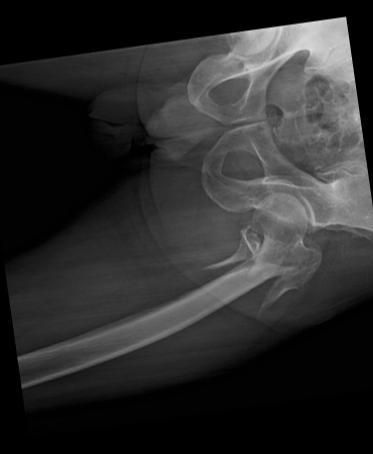fractured: (191, 226, 305, 322)
